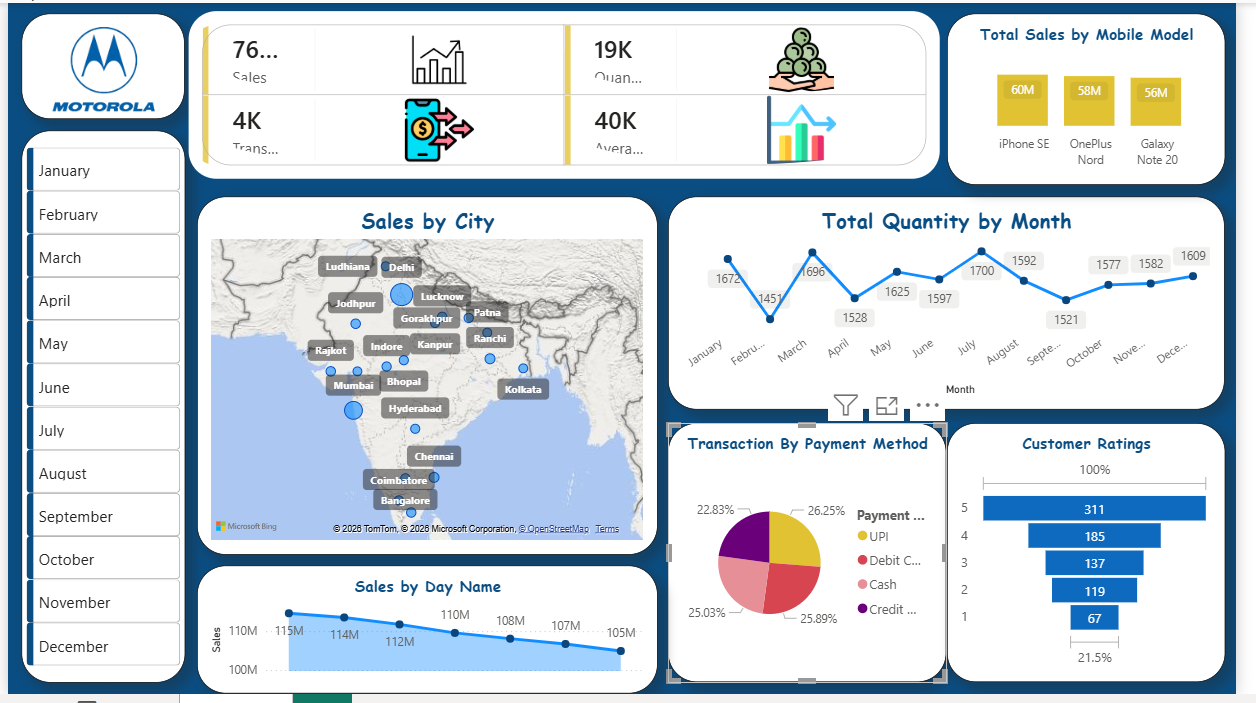

The page's visual inventory and layout, read from the dashboard file:
{"tool":"powerbi","page":{"name":"Page 1","canvas":[1280,720],"ordinal":0},"visuals":[{"type":"shape","box":[13.3,11.7,170,110],"z":0},{"type":"image","box":[43.3,15,111.7,106.7],"z":1000},{"type":"shape","box":[14.1,132.9,170.4,575.2],"z":2000},{"type":"advancedSlicerVisual","fields":{"Values":["Sales_Data.Date.Variation.Date Hierarchy.Month"]},"box":[14.1,145.4,170.4,556.4],"z":3000},{"type":"cardVisual","fields":{"Data":["Sales_Data.Total_Sales","Sales_Data.Total_Quantity","Sales_Data.Total_Transaction","Sales_Data.Average_Price"]},"box":[183.3,3.3,793.3,186.7],"z":4000},{"type":"map","fields":{"Category":["Sales_Data.City"],"Size":["Sales_Data.Sales"]},"box":[196.7,201.7,480,373.3],"z":5000},{"type":"lineChart","title":"Total Quantity by Month","fields":{"Y":["Sales_Data.Quantity"],"Category":["Sales_Data.Date.Variation.Date Hierarchy.Month","Sales_Data.Date.Variation.Date Hierarchy.Day"]},"box":[688.3,201.7,580,221.7],"z":6000},{"type":"columnChart","title":"Total Sales by Mobile Model","fields":{"Category":["Sales_Data.Mobile Model"],"Y":["Sales_Data.Sales"]},"box":[978.3,11.7,290,178.3],"z":7000},{"type":"pieChart","title":"Transaction By Payment Method","fields":{"Category":["Sales_Data.Payment Method"],"Y":["Sales_Data.Transaction"]},"box":[688.3,438.3,290,270],"z":8000},{"type":"funnel","title":"Customer Ratings","fields":{"Category":["Sales_Data.Customer Ratings"],"Y":["CountNonNull(Sales_Data.Customer Ratings)"]},"box":[978.3,438.3,290,270],"z":9000},{"type":"areaChart","fields":{"Category":["Sales_Data.Day Name"],"Y":["Sales_Data.Sales"]},"box":[196.7,586.7,480,133.3],"z":10000}]}

Visuals, with their boxes in screenshot pixels (x1, y1, x2, y2), scaled from the page's 1280x720 canvas onto the 1256x703 screenshot:
shape: 13/11/180/119
image: 42/15/152/119
shape: 14/130/181/691
advancedSlicerVisual - Sales_Data.Date.Variation.Date Hierarchy.Month: 14/142/181/685
cardVisual - Sales_Data.Total_Sales x Sales_Data.Total_Quantity: 180/3/958/186
map - Sales_Data.City x Sales_Data.Sales: 193/197/664/561
"Total Quantity by Month" lineChart: 675/197/1245/413
"Total Sales by Mobile Model" columnChart: 960/11/1245/186
"Transaction By Payment Method" pieChart: 675/428/960/692
"Customer Ratings" funnel: 960/428/1245/692
areaChart - Sales_Data.Day Name x Sales_Data.Sales: 193/573/664/702
